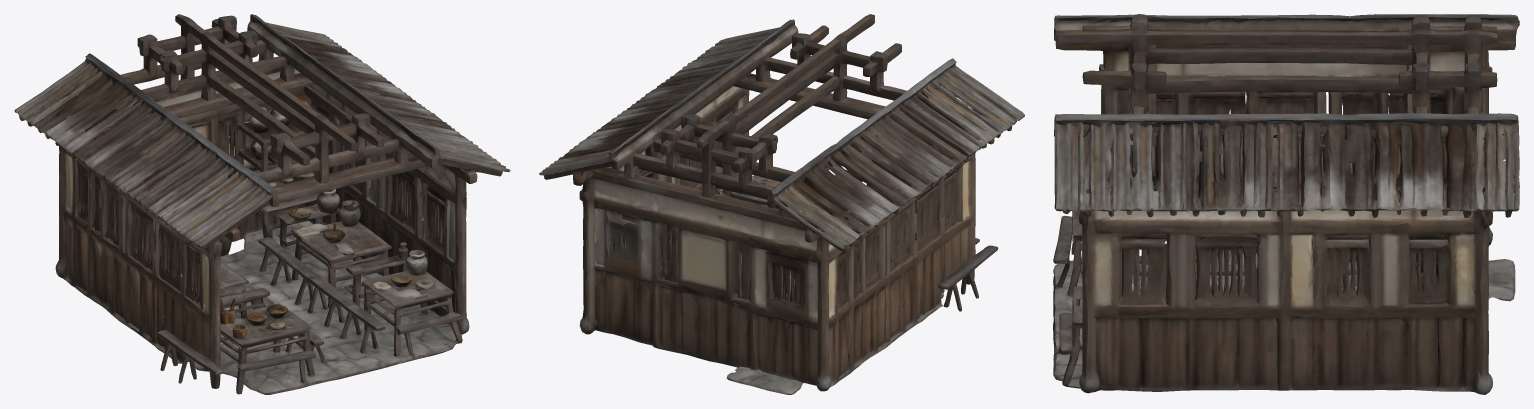
The model's file is tavern_diorama.glb.
3 views of the same model, side by side, from view 1: azimuth 30°, elevation 25°; view 2: azimuth 150°, elevation 25°; view 3: azimuth 270°, elevation 25° (orthographic). The views are drawn at different scales.
Visible parts, largest first — view 1: geometry_0; view 2: geometry_0; view 3: geometry_0.
Boxes of the visible parts, left/top/right/bottom form: geometry_0: left=14, top=14, right=510, bottom=394; geometry_0: left=539, top=14, right=1024, bottom=394; geometry_0: left=1053, top=14, right=1519, bottom=394.
Bounding box in the file's own units: 0.8 × 0.5715 × 0.8287.
Materials: 1 (1 with a texture image).
